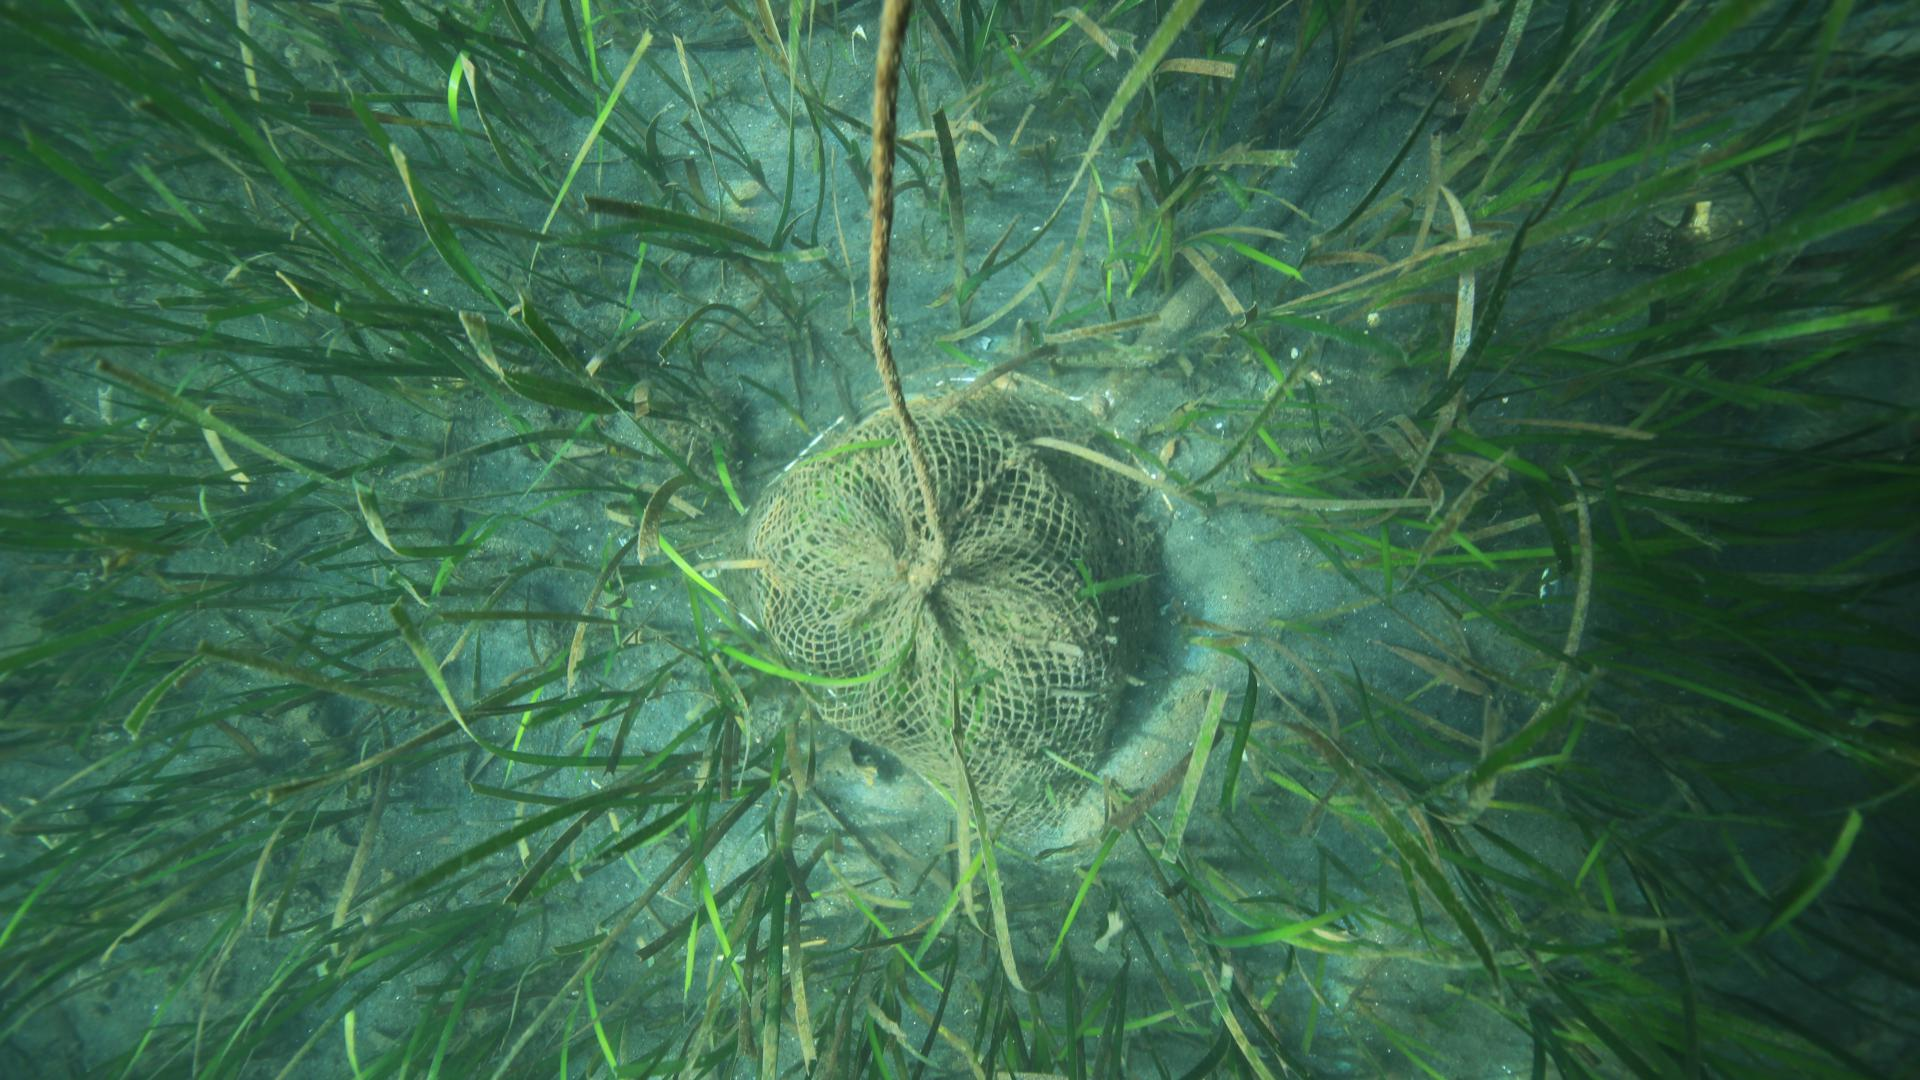fish net: (720, 384, 1147, 841)
rope: (866, 0, 952, 549)
